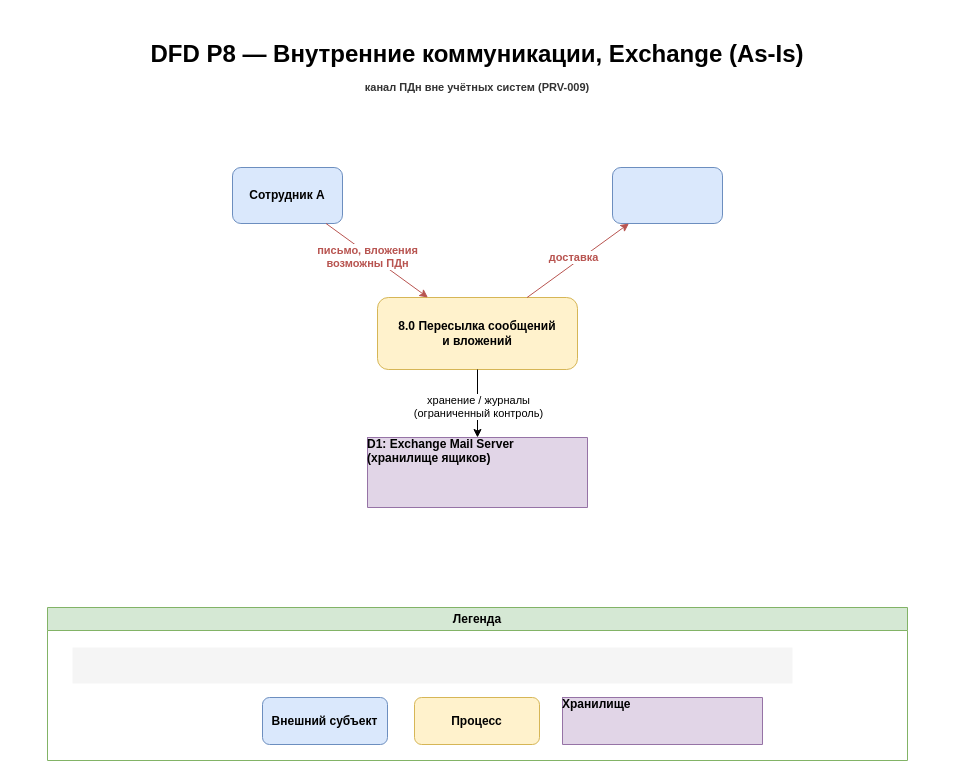
This 954x778 diagram has some shape labels left out. Each missing label, with the centre of its shape:
Легенда: Красный — ПДн; пунктир — без маскирования на папке.: the point at 432,665
Сотрудник B: the point at 667,195
